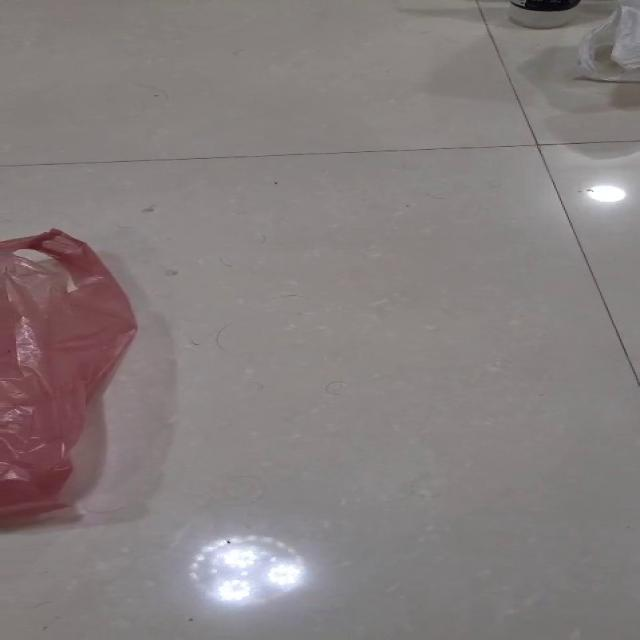plastic: (0, 227, 138, 526), (574, 4, 639, 82)
